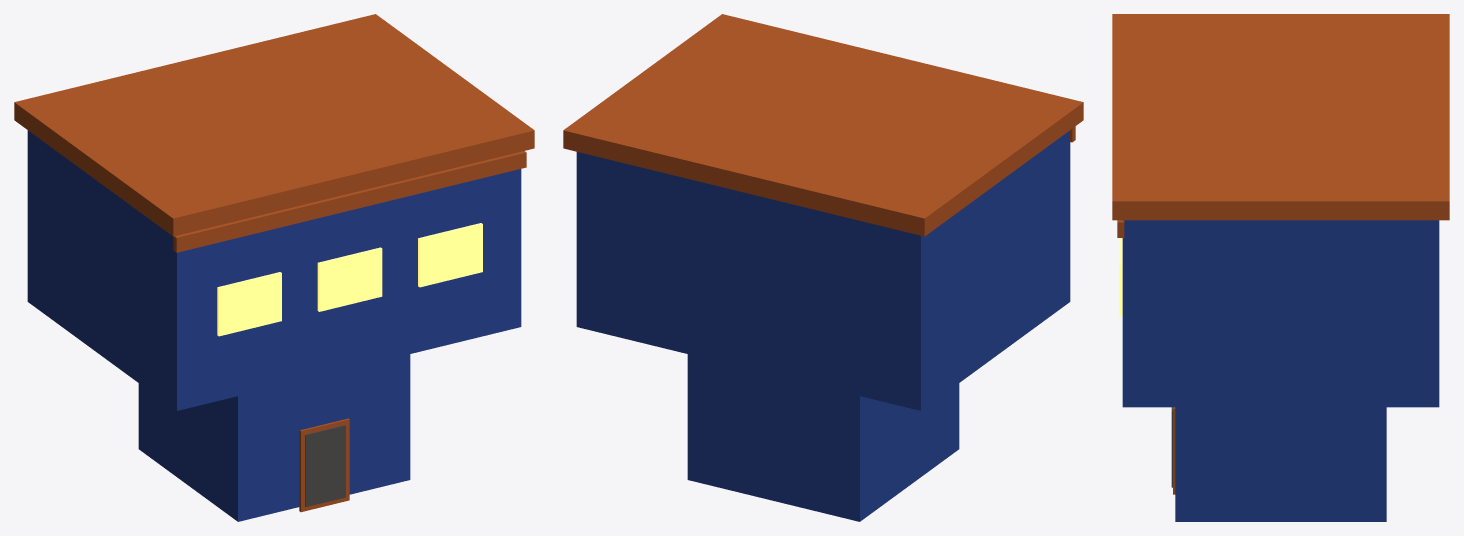
File: dorm_pod_script.glb
3 views of the same model, side by side, from view 1: azimuth 30°, elevation 25°; view 2: azimuth 150°, elevation 25°; view 3: azimuth 270°, elevation 25° (orthographic). The views are drawn at different scales.
Visible parts, largest first — view 1: Cube.003, Cube.004, Cube, Cube.005, Cube.007, Cube.006, Cube.008, Cube.002, Cube.001; view 2: Cube.003, Cube.004, Cube; view 3: Cube.004, Cube.003, Cube.
Part boxes in pixels (bbox=[...]): Cube.003: bbox=[27, 130, 521, 410]; Cube.004: bbox=[14, 14, 534, 236]; Cube: bbox=[138, 354, 410, 521]; Cube.005: bbox=[173, 151, 526, 252]; Cube.007: bbox=[317, 247, 382, 311]; Cube.006: bbox=[217, 272, 281, 336]; Cube.008: bbox=[418, 223, 482, 287]; Cube.002: bbox=[305, 425, 345, 506]; Cube.001: bbox=[299, 418, 349, 512]; Cube.003: bbox=[576, 131, 1070, 410]; Cube.004: bbox=[563, 14, 1083, 236]; Cube: bbox=[687, 354, 959, 521]; Cube.004: bbox=[1112, 14, 1449, 220]; Cube.003: bbox=[1122, 220, 1439, 407]; Cube: bbox=[1175, 407, 1386, 521].
Size of the model in its own units: 12.6 by 11.75 by 9.6.
